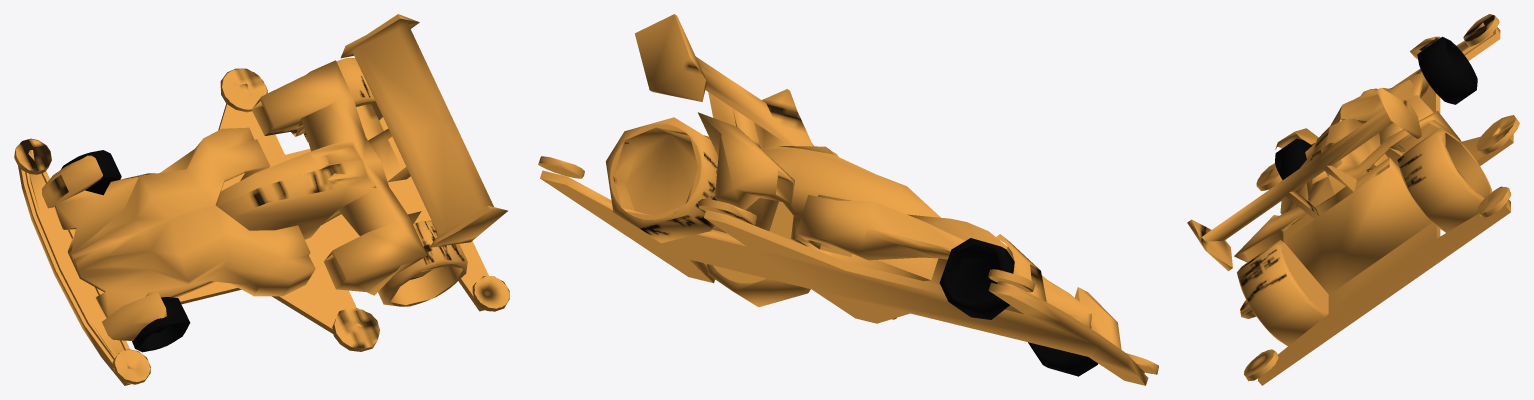
Rendered from ref_toycar.fbx.
The picture shows the model from 3 angles, left to right: view 1: azimuth 30°, elevation 25°; view 2: azimuth 150°, elevation 25°; view 3: azimuth 270°, elevation 25°; orthographic projection. The views are drawn at different scales.
Parts seen in each view (by area): view 1: ref_toycar; view 2: ref_toycar; view 3: ref_toycar.
Part boxes in pixels (<box>): ref_toycar: <box>14,14,509,385</box>; ref_toycar: <box>538,14,1158,385</box>; ref_toycar: <box>1187,14,1519,385</box>.
Size of the model in its own units: 100 by 64.43 by 69.77.
